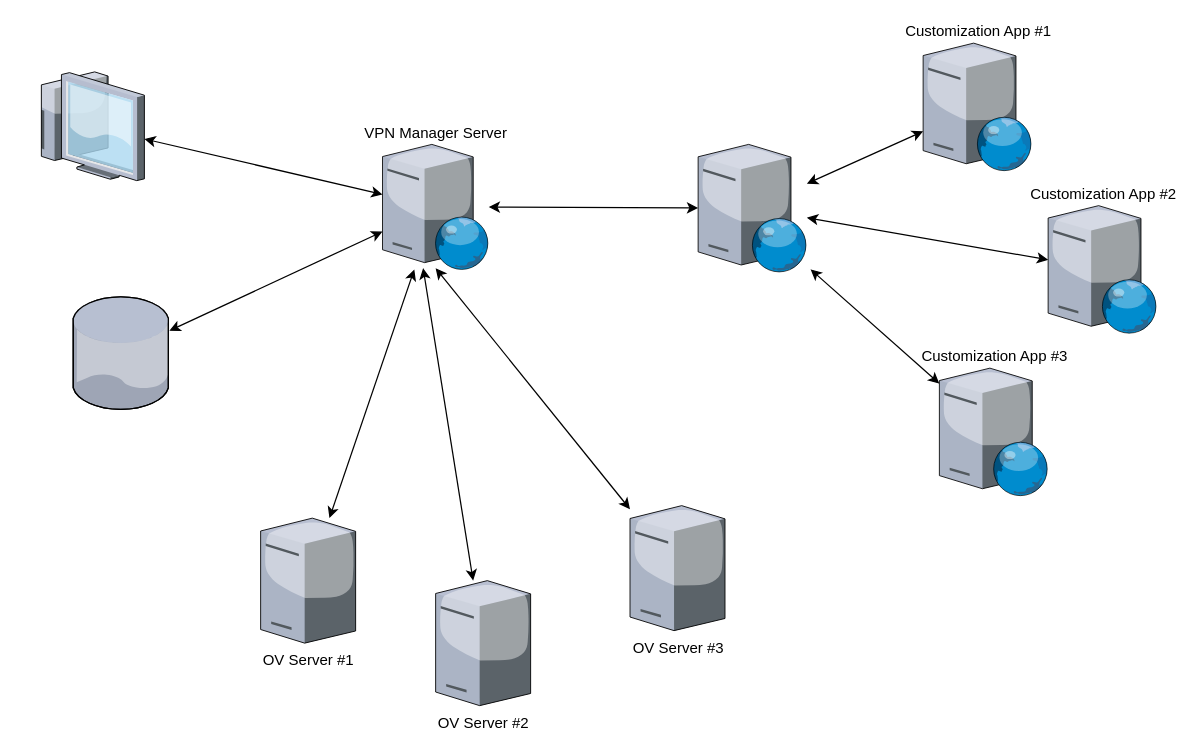
Image size: 1196x753. Some labels were removed from this diagram. The centre of each missing label's shape, as x and y in pixels:
"VPN Manager Client" belongs at point (89, 125).
"VPN Manager Database" belongs at point (120, 352).
"VPN Manager Interceptor" belongs at point (752, 207).
